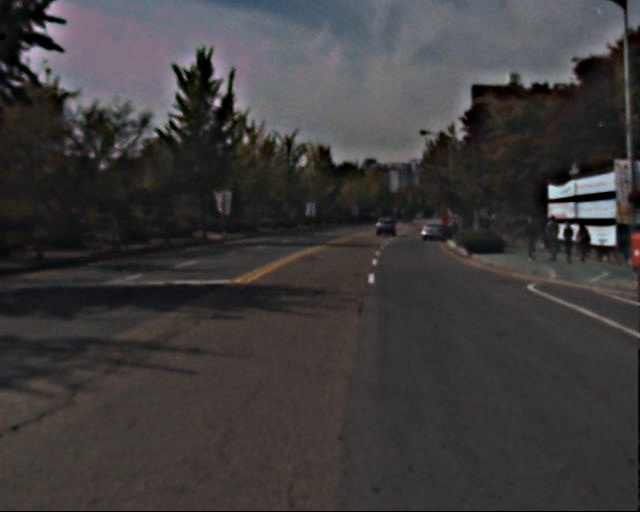person: (522, 217, 541, 264), (573, 221, 592, 268), (560, 221, 578, 266), (545, 216, 563, 260)
